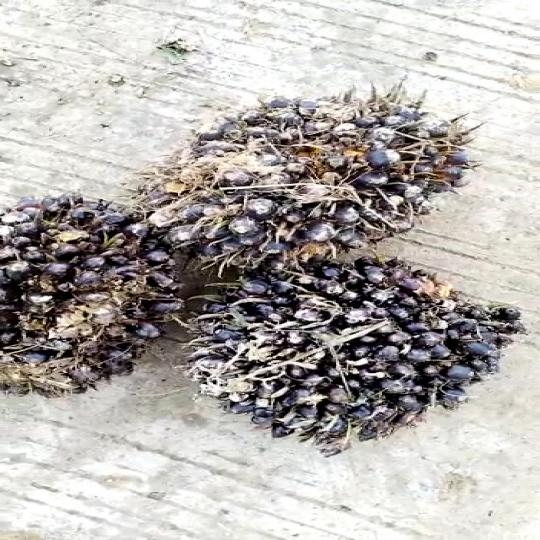mentah: (181, 254, 540, 448), (136, 70, 485, 262), (0, 180, 204, 406)
